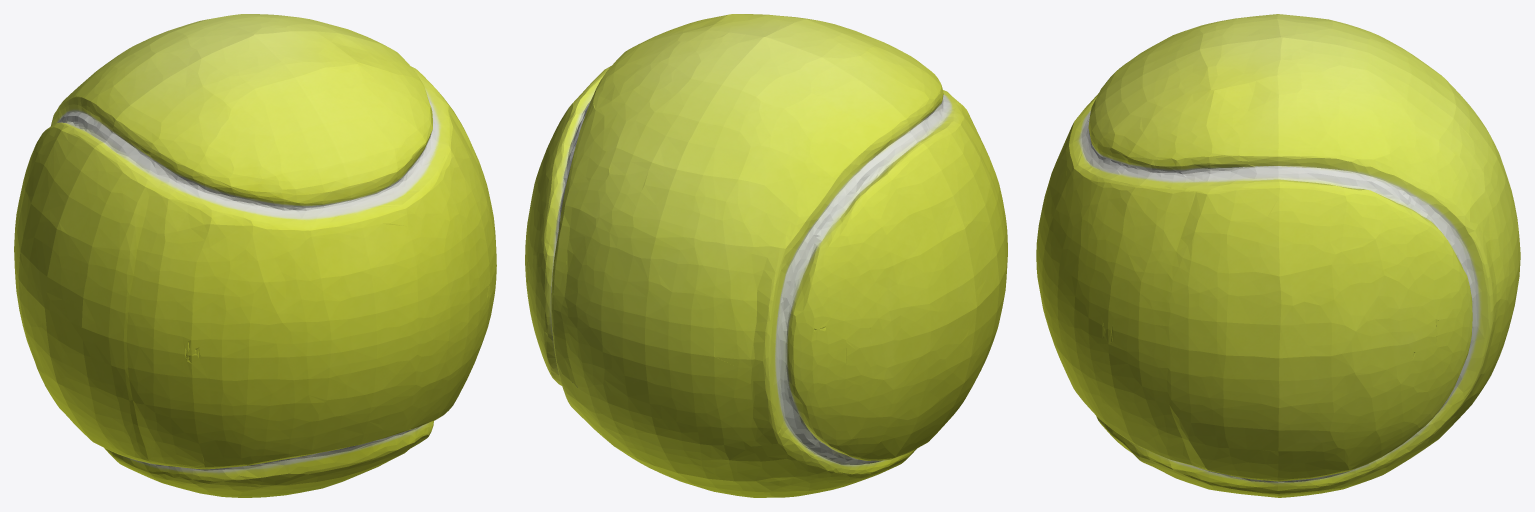
File: tennisball.glb
The picture shows the model from 3 angles, left to right: view 1: azimuth 30°, elevation 25°; view 2: azimuth 150°, elevation 25°; view 3: azimuth 270°, elevation 25°; orthographic projection.
Parts seen in each view (by area): view 1: world; view 2: world; view 3: world.
Boxes of the visible parts, box(x1,y1,x2,y2) form: world: box(14, 14, 496, 497); world: box(525, 14, 1007, 497); world: box(1036, 14, 1520, 497).
Size of the model in its own units: 0.9973 by 0.9973 by 0.9996.
1 material, 1 textured.
